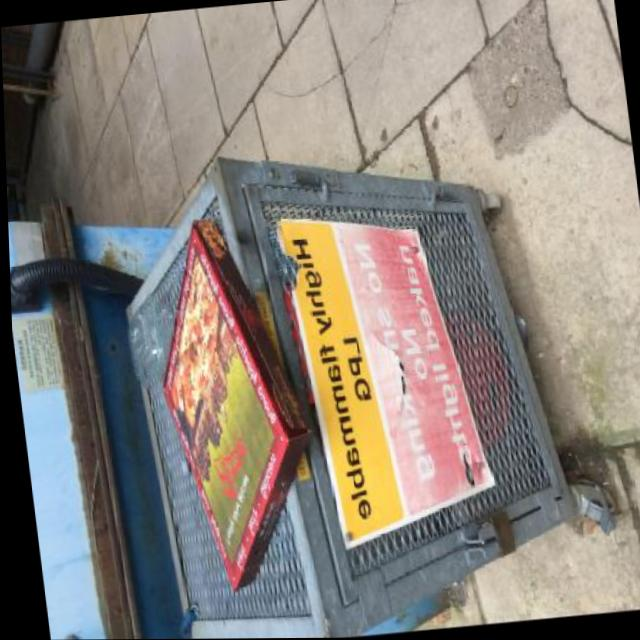cardboard: (141, 210, 332, 599)
plastic: (122, 291, 180, 391)
